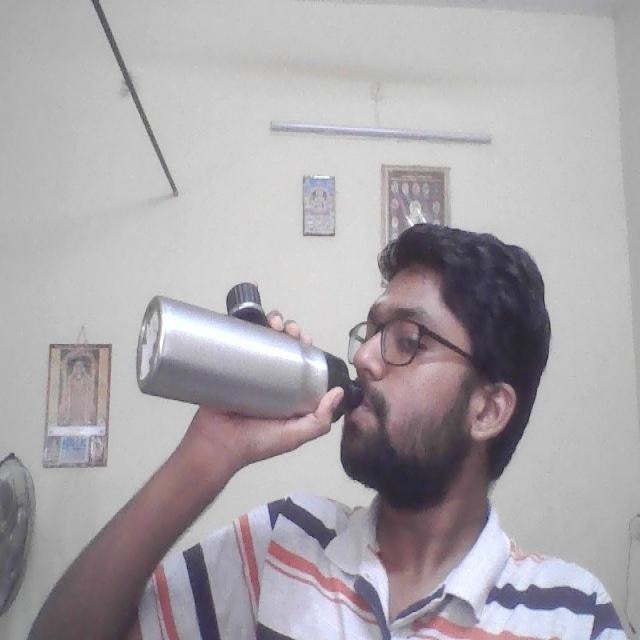Drinking: (122, 272, 363, 430)
